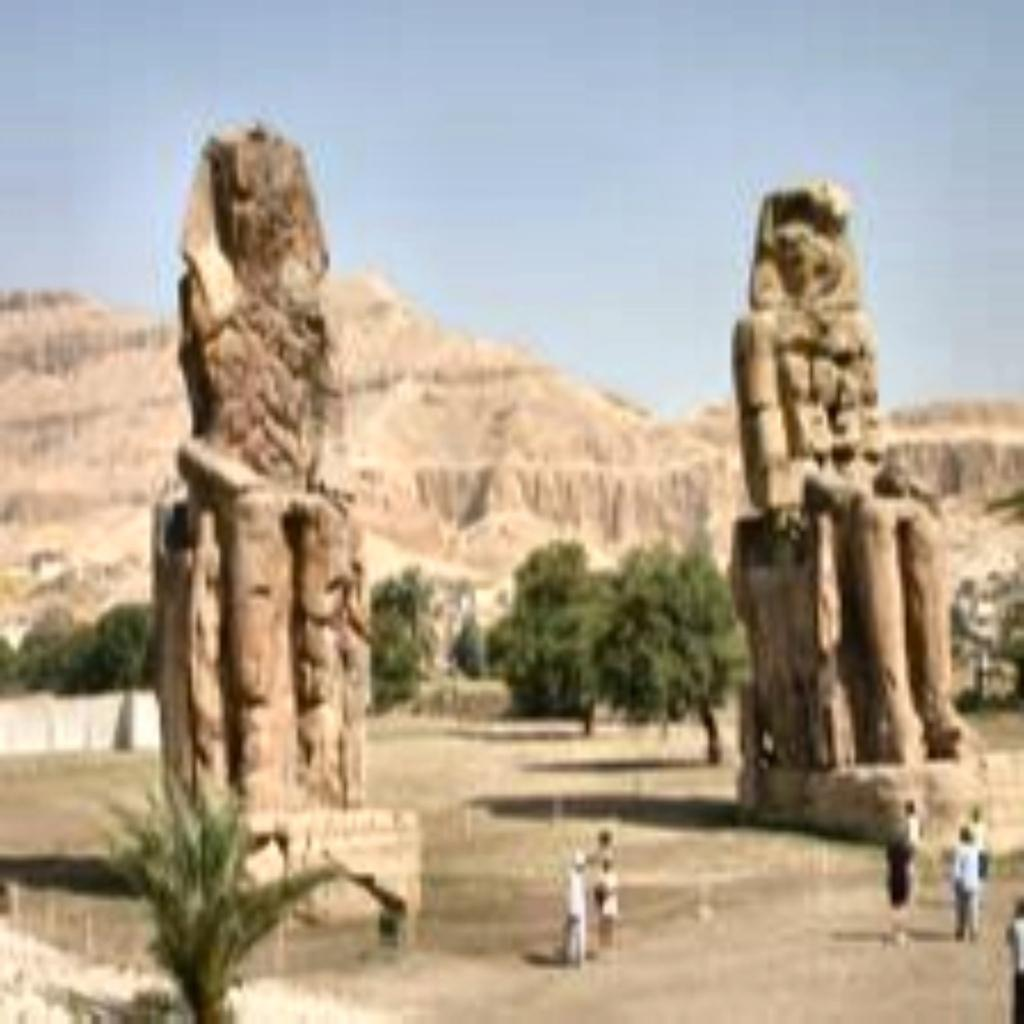Colossoi of Memnon: (138, 114, 420, 924), (713, 174, 974, 832)
